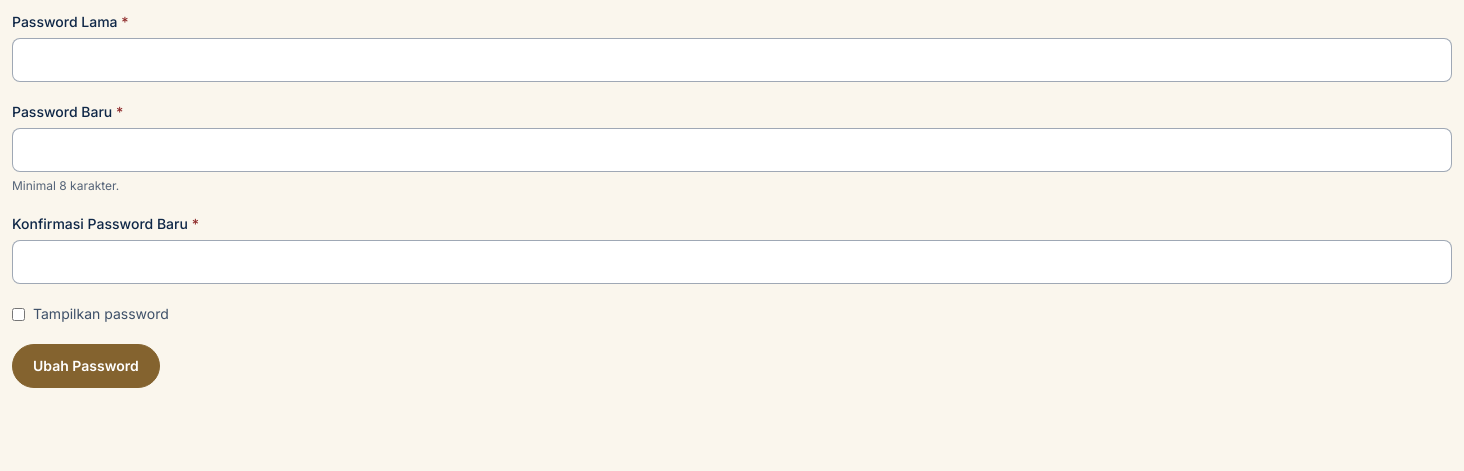
Test: FormPassword (FR-AKN-09, OQ-32) › OQ_32_pesan_sesi_lain_diakhiri dan hanya mengirim password lama & baru
In the password field labelled "Password Lama *": [732, 60] box top-left (12, 38), bottom-right (1452, 82), type "lama-1234"
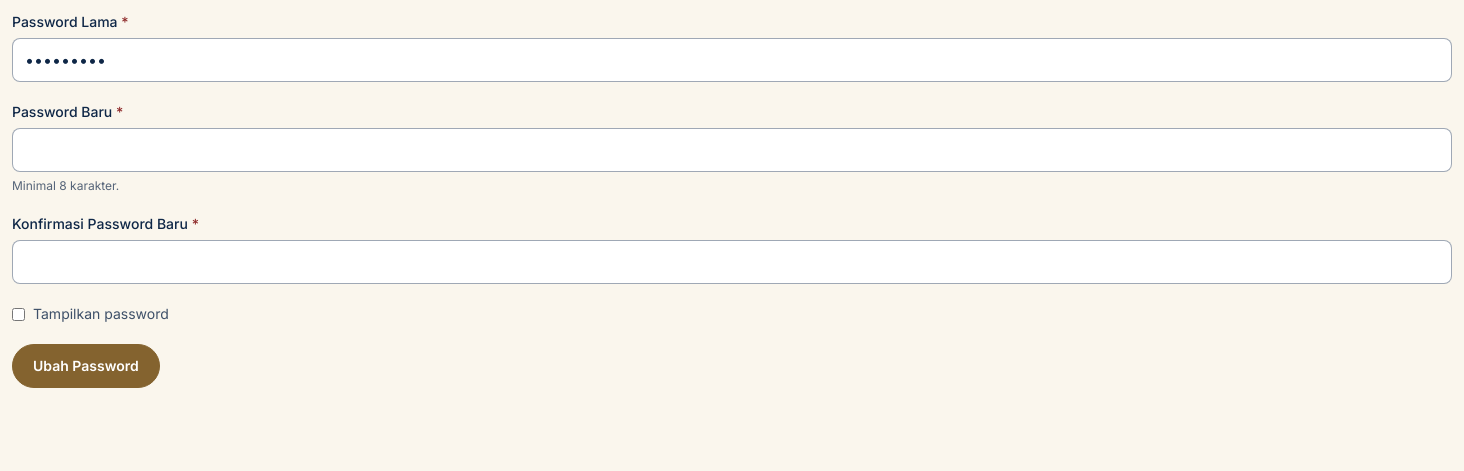
In the password field labelled "Password Baru *": [732, 150] box top-left (12, 128), bottom-right (1452, 172), type "baru-12345"
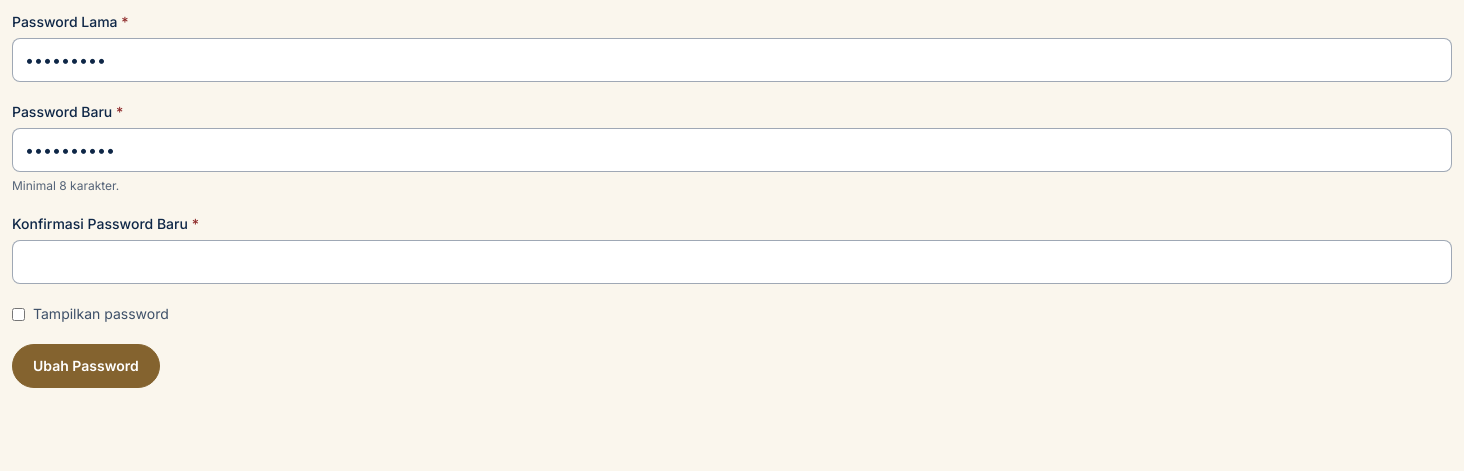
In the password field labelled "Konfirmasi Password Baru *": [732, 262] box top-left (12, 240), bottom-right (1452, 284), type "baru-12345"
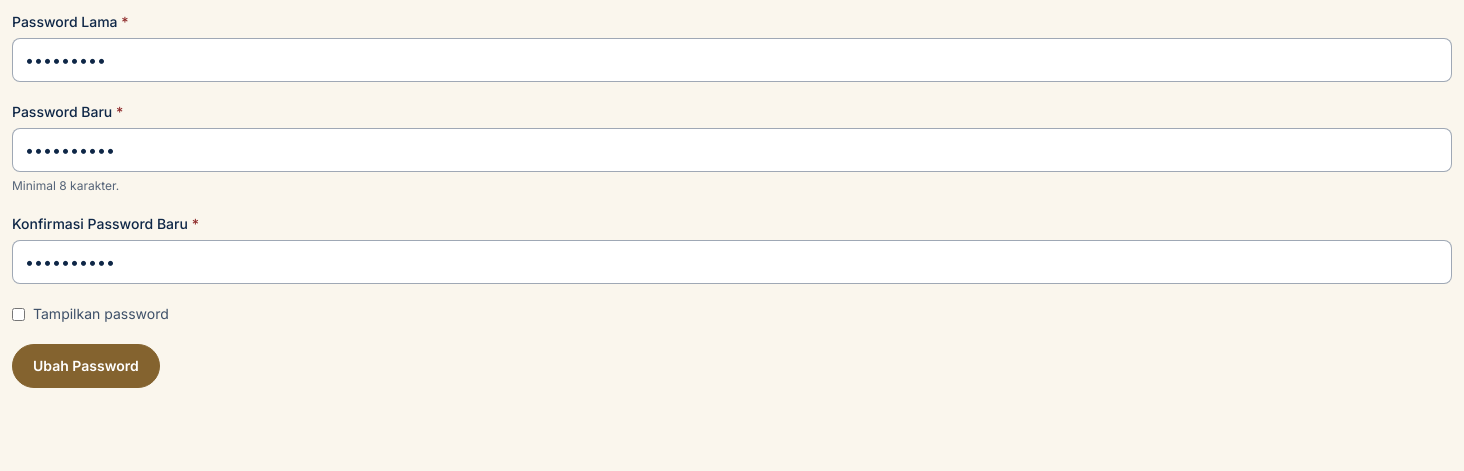
Click the button "Ubah Password": [86, 366] box top-left (12, 344), bottom-right (160, 388)
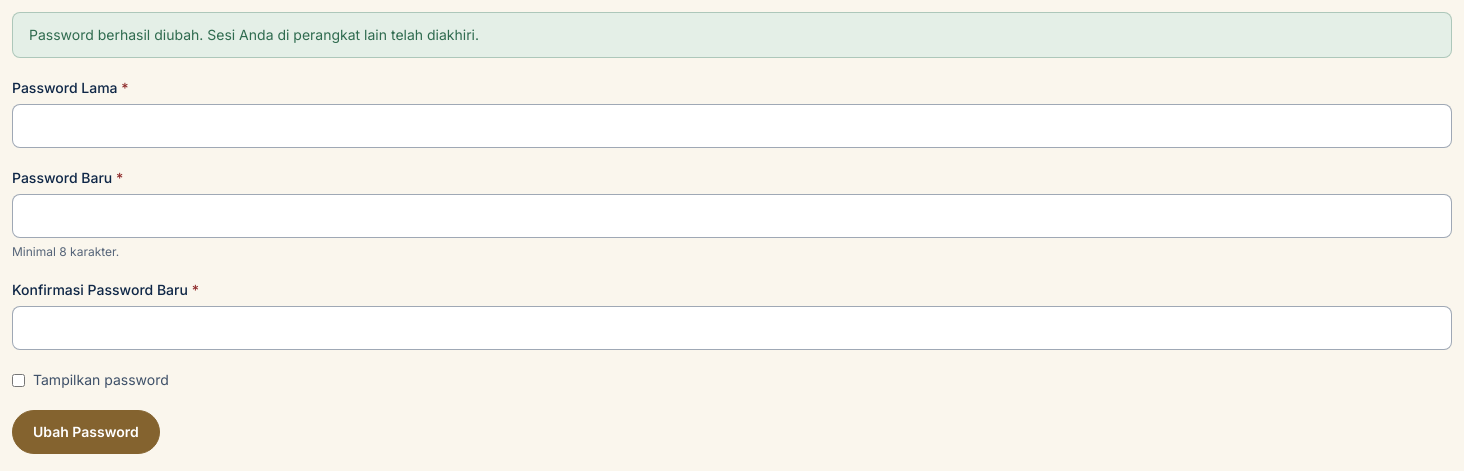
Expected: the text "Password berhasil diubah. Sesi Anda di perangkat lain telah diakhiri." is shown, top-left (29, 26), bottom-right (479, 43)
Expected: the password field labelled "Password Lama *" is empty, top-left (12, 104), bottom-right (1452, 148)
